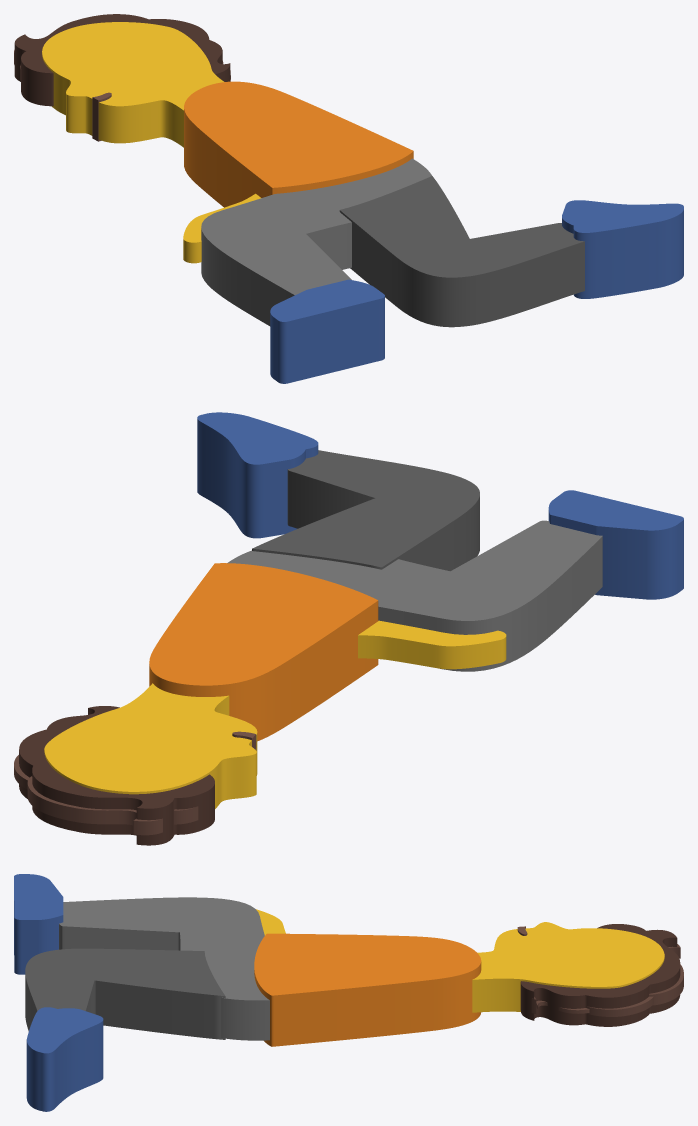
Rendered from emoji_u1f9ce.glb.
3 renders of one model, top to bottom at view 1: azimuth 30°, elevation 25°; view 2: azimuth 150°, elevation 25°; view 3: azimuth 270°, elevation 25°, orthographic. The views are drawn at different scales.
Parts seen in each view (by area): view 1: emoji_u1f9ce; view 2: emoji_u1f9ce; view 3: emoji_u1f9ce.
Part boxes in pixels (bbox=[...]): emoji_u1f9ce: bbox=[14, 14, 683, 383]; emoji_u1f9ce: bbox=[14, 412, 683, 845]; emoji_u1f9ce: bbox=[14, 874, 683, 1111].
Bounding box in the file's own units: 0.0213 × 0.0032 × 0.0332.
